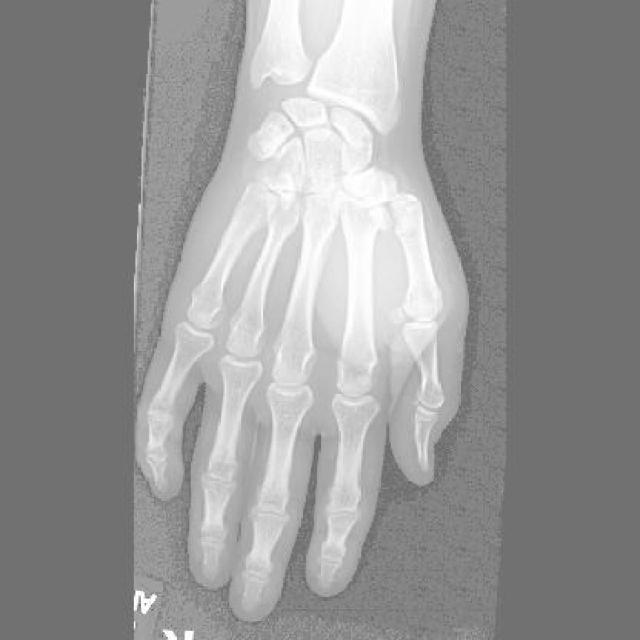Fracture: (383, 201, 409, 237)
